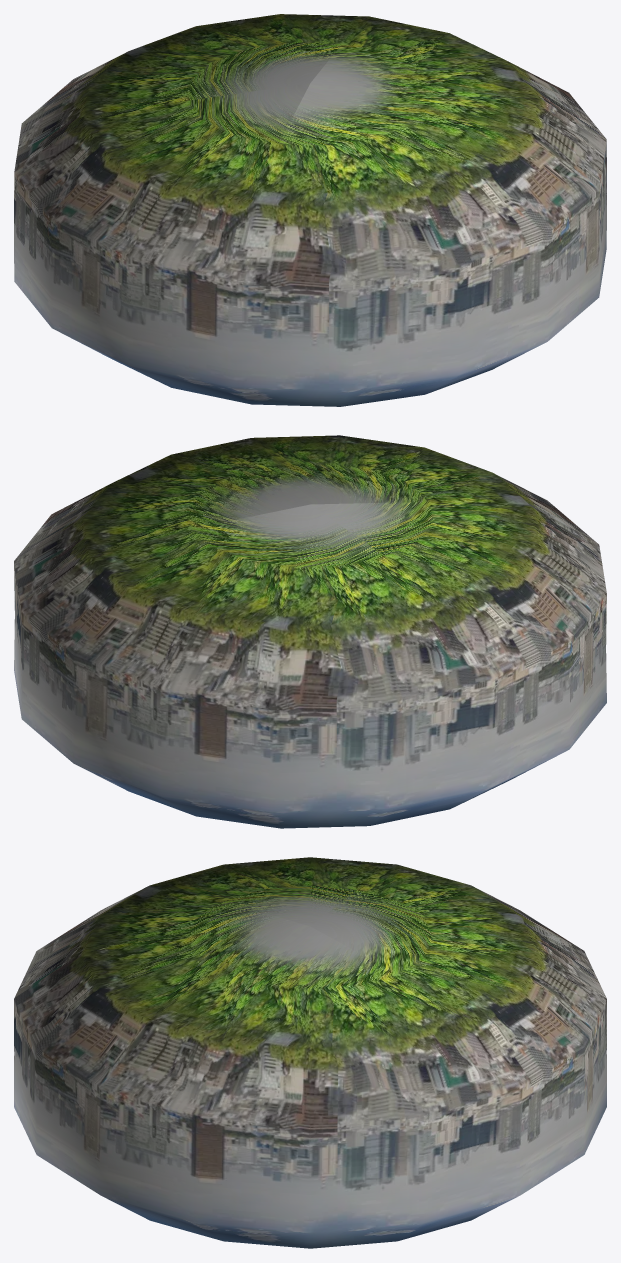
File: Workshop.glb
3 views of the same model, one above another, from view 1: azimuth 30°, elevation 25°; view 2: azimuth 150°, elevation 25°; view 3: azimuth 270°, elevation 25° (orthographic).
Visible parts, largest first — view 1: Workshop; view 2: Workshop; view 3: Workshop.
Part boxes in pixels (x1,y1,x2,y2): Workshop: (14,14,606,406); Workshop: (14,435,606,828); Workshop: (14,857,606,1248).
Bounding box in the file's own units: 143 × 67.51 × 143.
Materials: 24 (23 with a texture image).
